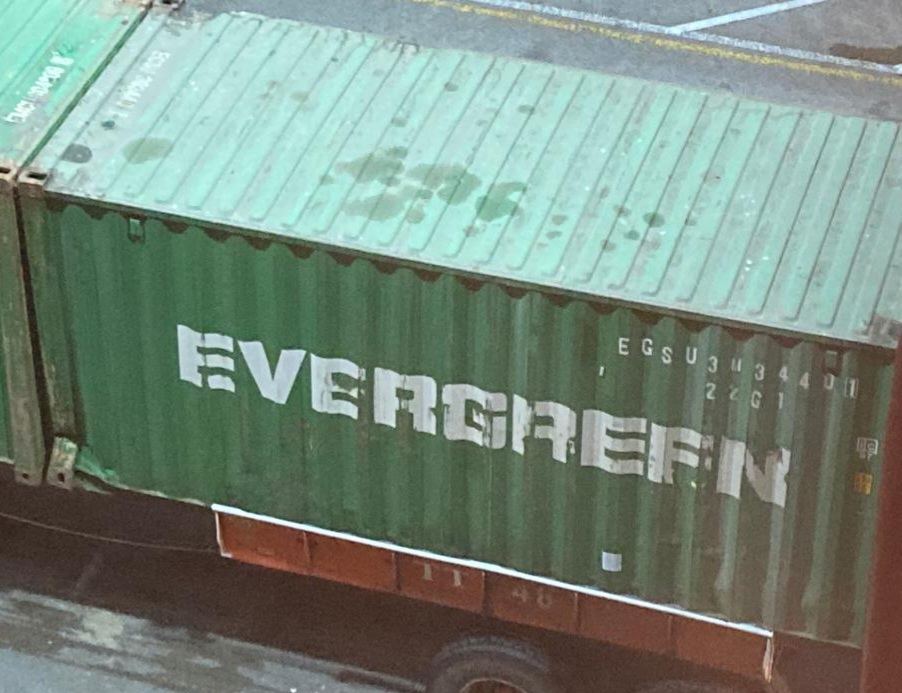left_side: (21, 174, 876, 642)
top_side: (26, 1, 902, 313)
